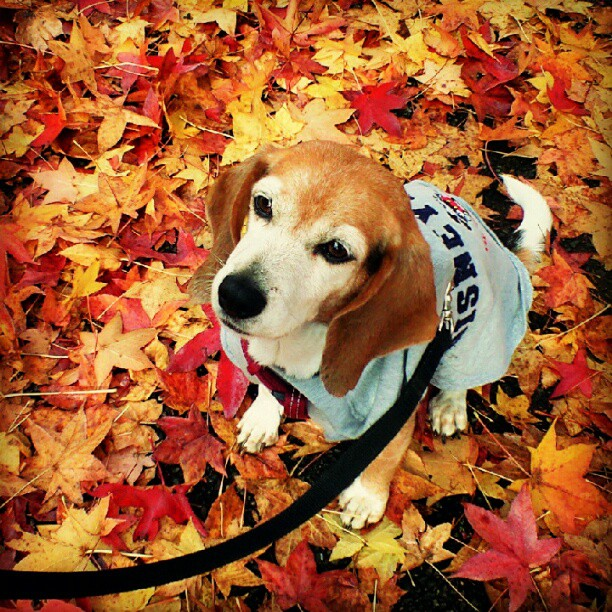animal: (190, 160, 539, 541)
vegetation: (1, 1, 605, 611)
